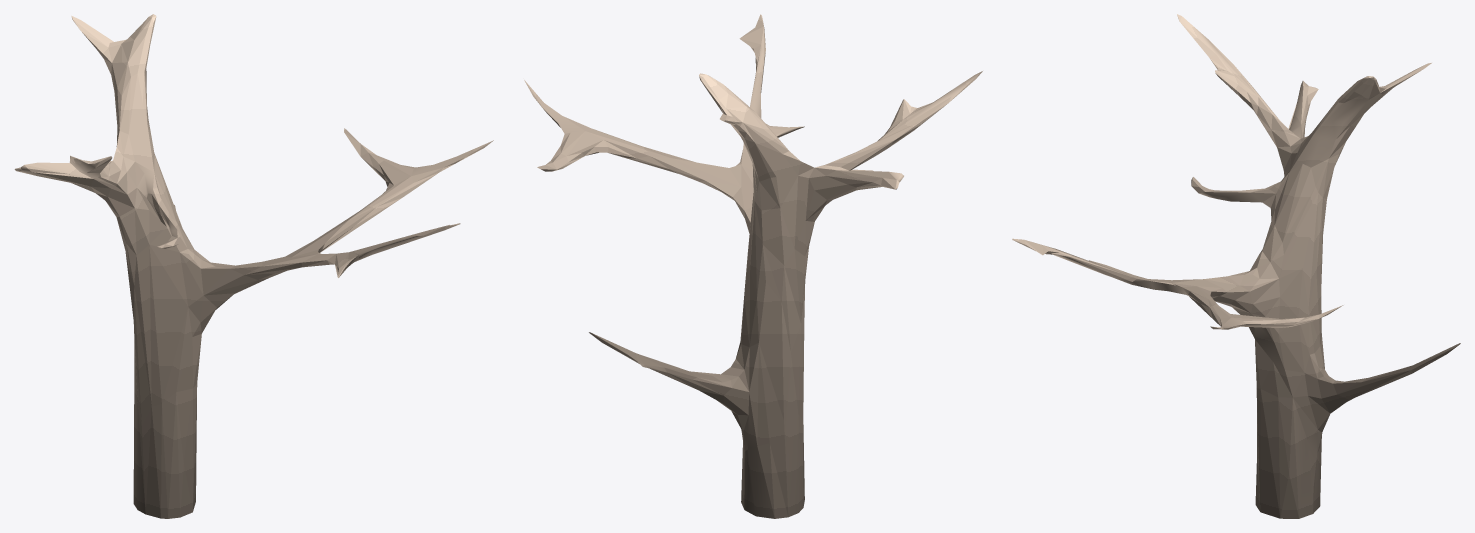
The model's file is Prefab_Foliage_Tree_Oak_Trunk_B.glb.
3 renders of one model, left to right at view 1: azimuth 30°, elevation 25°; view 2: azimuth 150°, elevation 25°; view 3: azimuth 270°, elevation 25°, orthographic. The views are drawn at different scales.
Parts seen in each view (by area): view 1: OakTree_A_Trunk.001; view 2: OakTree_A_Trunk.001; view 3: OakTree_A_Trunk.001.
Part boxes in pixels (left/top/right/bottom): OakTree_A_Trunk.001: left=14, top=14, right=493, bottom=518; OakTree_A_Trunk.001: left=524, top=14, right=982, bottom=518; OakTree_A_Trunk.001: left=1012, top=14, right=1460, bottom=518.
Size of the model in its own units: 8.4 by 8.24 by 7.55.
1 material, 1 textured.
